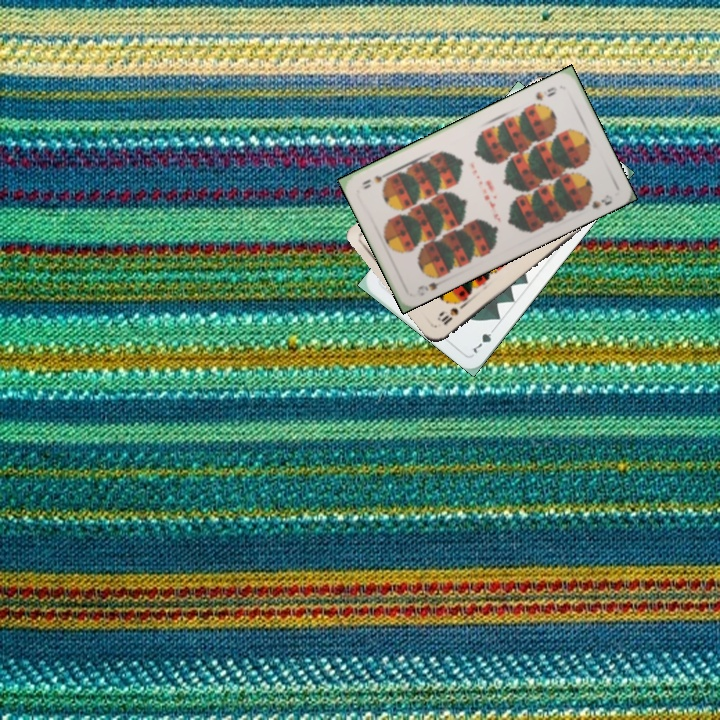G7: (469, 322, 499, 357)
S10: (434, 299, 469, 328)
S9: (414, 271, 449, 298), (532, 83, 559, 104)
